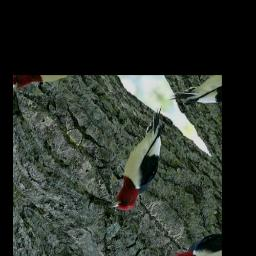Woodpecker: (76, 99, 202, 227)
